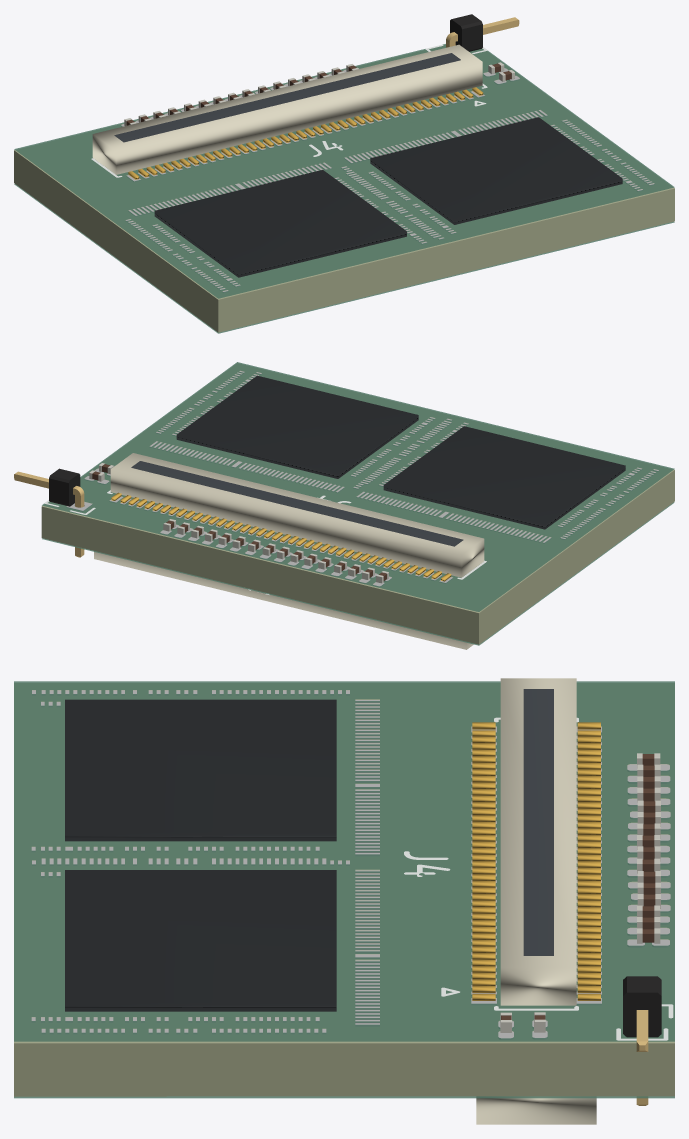
Rendered from asic-board-pcb5.glb.
3 renders of one model, top to bottom at view 1: azimuth 30°, elevation 25°; view 2: azimuth 150°, elevation 25°; view 3: azimuth 270°, elevation 25°, orthographic. The views are drawn at different scales.
Parts seen in each view (by area): view 1: =>[0:1:1:19], =>[0:1:1:17], =>[0:1:1:7], =>[0:1:1:5], =>[0:1:1:9], =>[0:1:1:14], =>[0:1:1:11], =>[0:1:1:18]; view 2: =>[0:1:1:19], =>[0:1:1:17], =>[0:1:1:7], =>[0:1:1:9], =>[0:1:1:5], =>[0:1:1:14], =>[0:1:1:13], =>[0:1:1:11], =>[0:1:1:18]; view 3: =>[0:1:1:19], =>[0:1:1:17], =>[0:1:1:9], =>[0:1:1:7], =>[0:1:1:5], =>[0:1:1:14], =>[0:1:1:13], =>[0:1:1:11], =>[0:1:1:18], =>[0:1:1:15].
Part boxes in pixels (box(x1,y1,x2,y2)): =>[0:1:1:19]: box(14, 45, 674, 332); =>[0:1:1:17]: box(14, 44, 674, 298); =>[0:1:1:7]: box(92, 44, 483, 179); =>[0:1:1:5]: box(370, 117, 622, 224); =>[0:1:1:9]: box(154, 170, 406, 277); =>[0:1:1:14]: box(121, 68, 654, 292); =>[0:1:1:11]: box(446, 14, 519, 51); =>[0:1:1:18]: box(14, 184, 674, 333); =>[0:1:1:19]: box(41, 364, 674, 644); =>[0:1:1:17]: box(42, 362, 674, 611); =>[0:1:1:7]: box(110, 453, 484, 581); =>[0:1:1:9]: box(383, 426, 625, 529); =>[0:1:1:5]: box(176, 375, 418, 478); =>[0:1:1:14]: box(67, 371, 658, 586); =>[0:1:1:13]: box(94, 551, 473, 649); =>[0:1:1:11]: box(14, 468, 84, 557); =>[0:1:1:18]: box(42, 502, 674, 645); =>[0:1:1:19]: box(14, 683, 674, 1096); =>[0:1:1:17]: box(14, 681, 674, 1041); =>[0:1:1:9]: box(65, 699, 336, 841); =>[0:1:1:7]: box(472, 678, 600, 1005); =>[0:1:1:5]: box(65, 870, 336, 1011); =>[0:1:1:14]: box(31, 690, 670, 1039); =>[0:1:1:13]: box(476, 1097, 596, 1124); =>[0:1:1:11]: box(623, 976, 661, 1105); =>[0:1:1:18]: box(14, 1096, 674, 1098); =>[0:1:1:15]: box(404, 717, 673, 1040).
Size of the model in its own units: 0.0238 by 0.00437 by 0.017.
